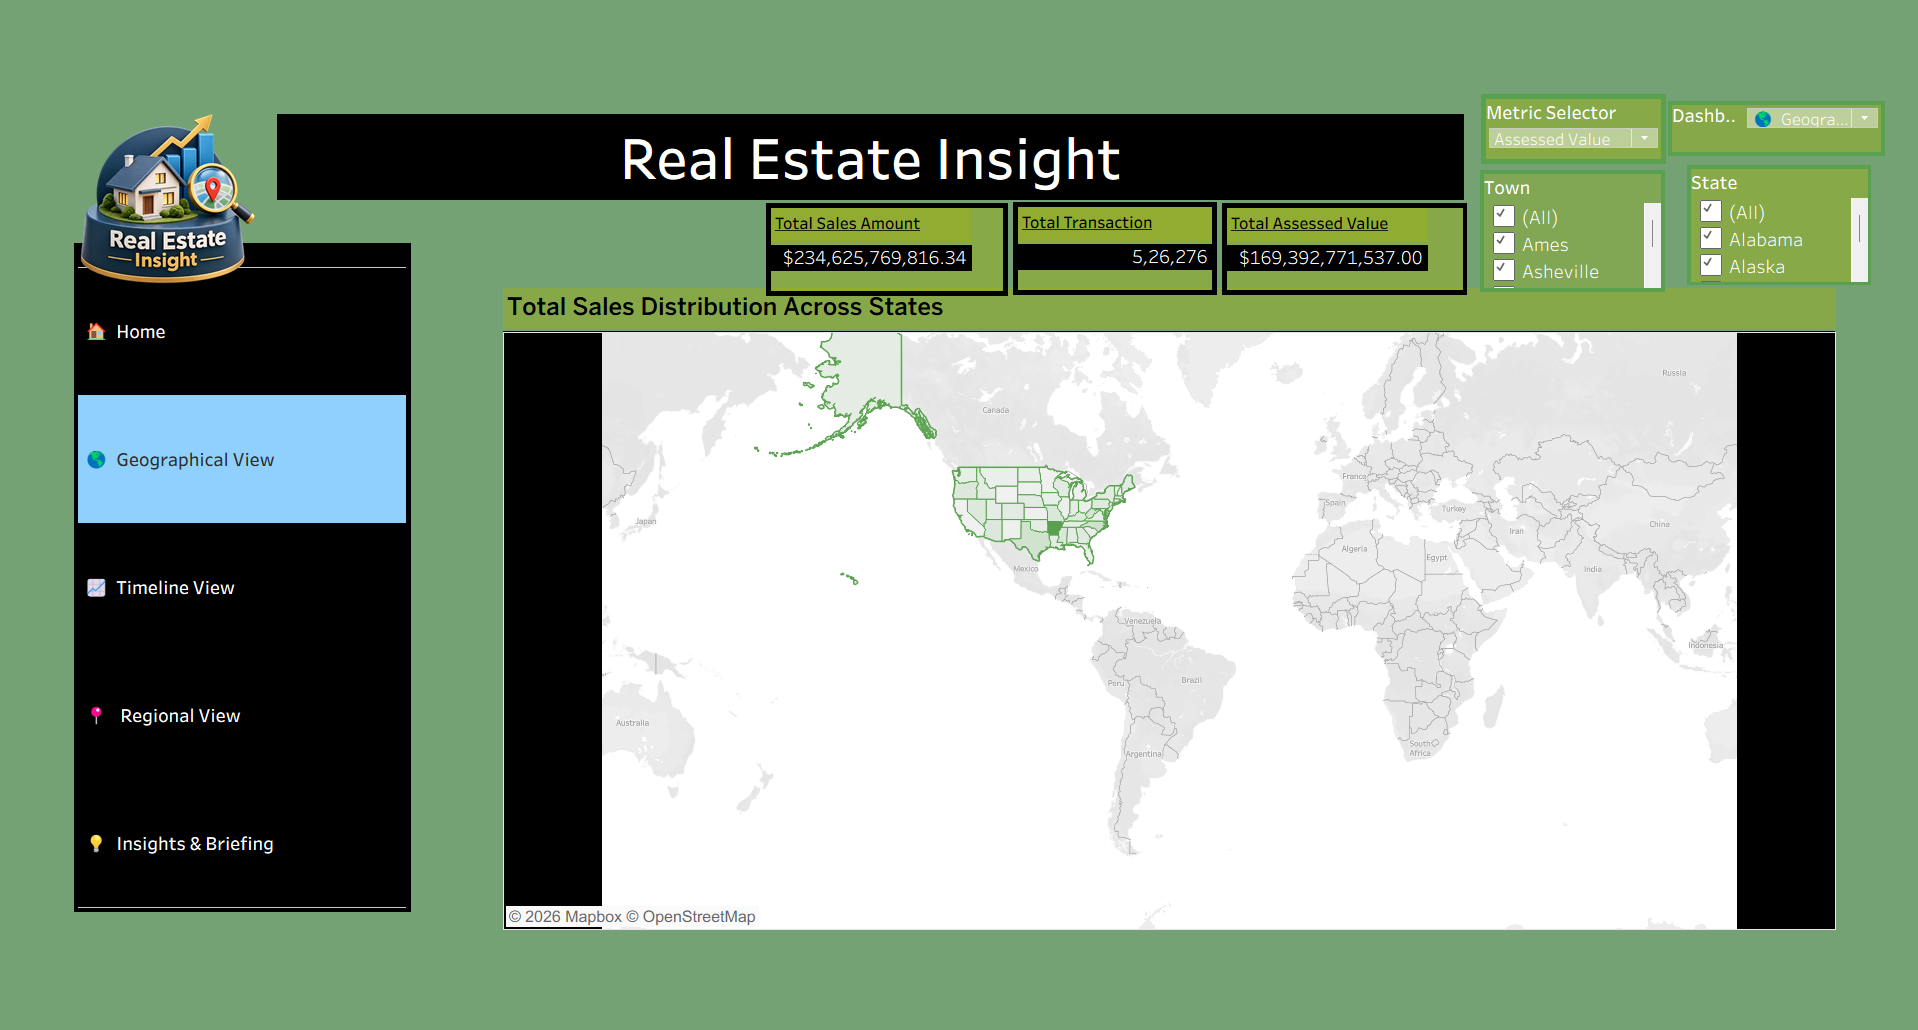

Layout of this report page (visuals, bound fields, positions):
{"tool":"tableau","page":{"name":"Dashboard 2","canvas":[1000,1000],"units":"permille","ordinal":0},"visuals":[{"type":"parameter","param":"[Parameters].[Parameter 0808450790232068]","box":[781.8,8.7,99.8,81.9]},{"type":"image","param":"Image/Real Eastate Insight.png","box":[12.5,12.4,186.4,234.5]},{"type":"parameter","param":"[Parameters].[Parameter 0213066484559873]","box":[882.8,16.1,117.2,64.5]},{"type":"text","box":[130.9,31,641.5,100.5]},{"type":"blank","box":[31.2,62,129.7,179.9]},{"type":"filter","title":"Sales Trends","param":"[federated.1qkqjhs1gmcssj14a1kwi1otzbef].[none:State:nk]","box":[892.8,90.6,99.8,140.2]},{"type":"filter","title":"Sales Trends","param":"[federated.1qkqjhs1gmcssj14a1kwi1otzbef].[none:Town:nk]","box":[781.2,96.8,99.8,141.4]},{"type":"worksheet","title":"KPI2","mark":"Automatic","box":[528.7,134,110.4,107.9]},{"type":"worksheet","title":"KPI1","mark":"Automatic","box":[395.3,135.2,130.9,107.9]},{"type":"worksheet","title":"KPI3","mark":"Automatic","box":[641.5,135.2,132.8,106.7]},{"type":"worksheet","title":"Navigation","mark":"Square","rows":["Navigation"],"box":[21.2,181.1,182,777.9]},{"type":"worksheet","title":"Distribution by State","mark":"Automatic","box":[250.6,229.5,725.1,755.6]},{"type":"worksheet","title":"Sales By Town","mark":"Automatic","rows":["Town"],"cols":["Calculation_0808450792677381"],"box":[253.7,250.6,726.9,719.6]},{"type":"text","box":[225.7,255.6,758.7,712.2]},{"type":"worksheet","title":"Sales Ratio Heatmap","mark":"Square","rows":["Town"],"cols":["Residential Type"],"box":[241.3,260.6,736.9,696]},{"type":"worksheet","title":"Sales Trends","mark":"Line","rows":["Calculation_1371125376655362"],"cols":["Calculation_1371125373931520"],"box":[253.1,284.1,728.2,683.6]}]}

Visuals, with their boxes on the dashboard's canvas, which has no fixed pixel size, in thousandths of its width and height (x1, y1, x2, y2). These are canvas units, not pixel positions in the 1918x1030 screenshot, which may show the page scaled, cropped or inside an application window:
parameter: {"x1": 782, "y1": 9, "x2": 882, "y2": 91}
image: {"x1": 12, "y1": 12, "x2": 199, "y2": 247}
parameter: {"x1": 883, "y1": 16, "x2": 1000, "y2": 81}
text: {"x1": 131, "y1": 31, "x2": 772, "y2": 132}
blank: {"x1": 31, "y1": 62, "x2": 161, "y2": 242}
"Sales Trends" filter: {"x1": 893, "y1": 91, "x2": 993, "y2": 231}
"Sales Trends" filter: {"x1": 781, "y1": 97, "x2": 881, "y2": 238}
"KPI2" worksheet: {"x1": 529, "y1": 134, "x2": 639, "y2": 242}
"KPI1" worksheet: {"x1": 395, "y1": 135, "x2": 526, "y2": 243}
"KPI3" worksheet: {"x1": 642, "y1": 135, "x2": 774, "y2": 242}
"Navigation" worksheet (Square marks): {"x1": 21, "y1": 181, "x2": 203, "y2": 959}
"Distribution by State" worksheet: {"x1": 251, "y1": 230, "x2": 976, "y2": 985}
"Sales By Town" worksheet: {"x1": 254, "y1": 251, "x2": 981, "y2": 970}
text: {"x1": 226, "y1": 256, "x2": 984, "y2": 968}
"Sales Ratio Heatmap" worksheet (Square marks): {"x1": 241, "y1": 261, "x2": 978, "y2": 957}
"Sales Trends" worksheet (Line marks): {"x1": 253, "y1": 284, "x2": 981, "y2": 968}
